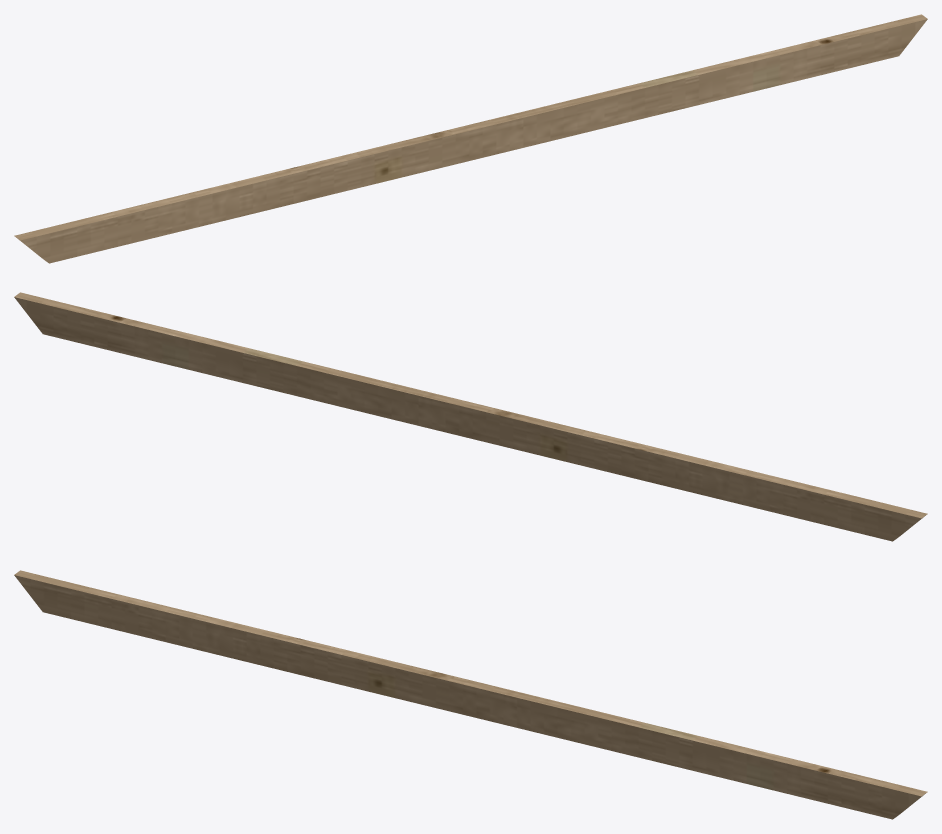
Rendered from Joglo_part_261.fbx.
3 views of the same model, one above another, from view 1: azimuth 30°, elevation 25°; view 2: azimuth 150°, elevation 25°; view 3: azimuth 330°, elevation 25° (orthographic).
Visible parts, largest first — view 1: Mesh329_Wood___Pine_Grained_Horizontal_0.001; view 2: Mesh329_Wood___Pine_Grained_Horizontal_0.001; view 3: Mesh329_Wood___Pine_Grained_Horizontal_0.001.
Boxes of the visible parts, x1,y1,x2,y2 form: Mesh329_Wood___Pine_Grained_Horizontal_0.001: [14, 14, 927, 263]; Mesh329_Wood___Pine_Grained_Horizontal_0.001: [14, 292, 927, 541]; Mesh329_Wood___Pine_Grained_Horizontal_0.001: [14, 570, 927, 819].
Size of the model in its own units: 61.97 by 1.97 by 0.7477.
